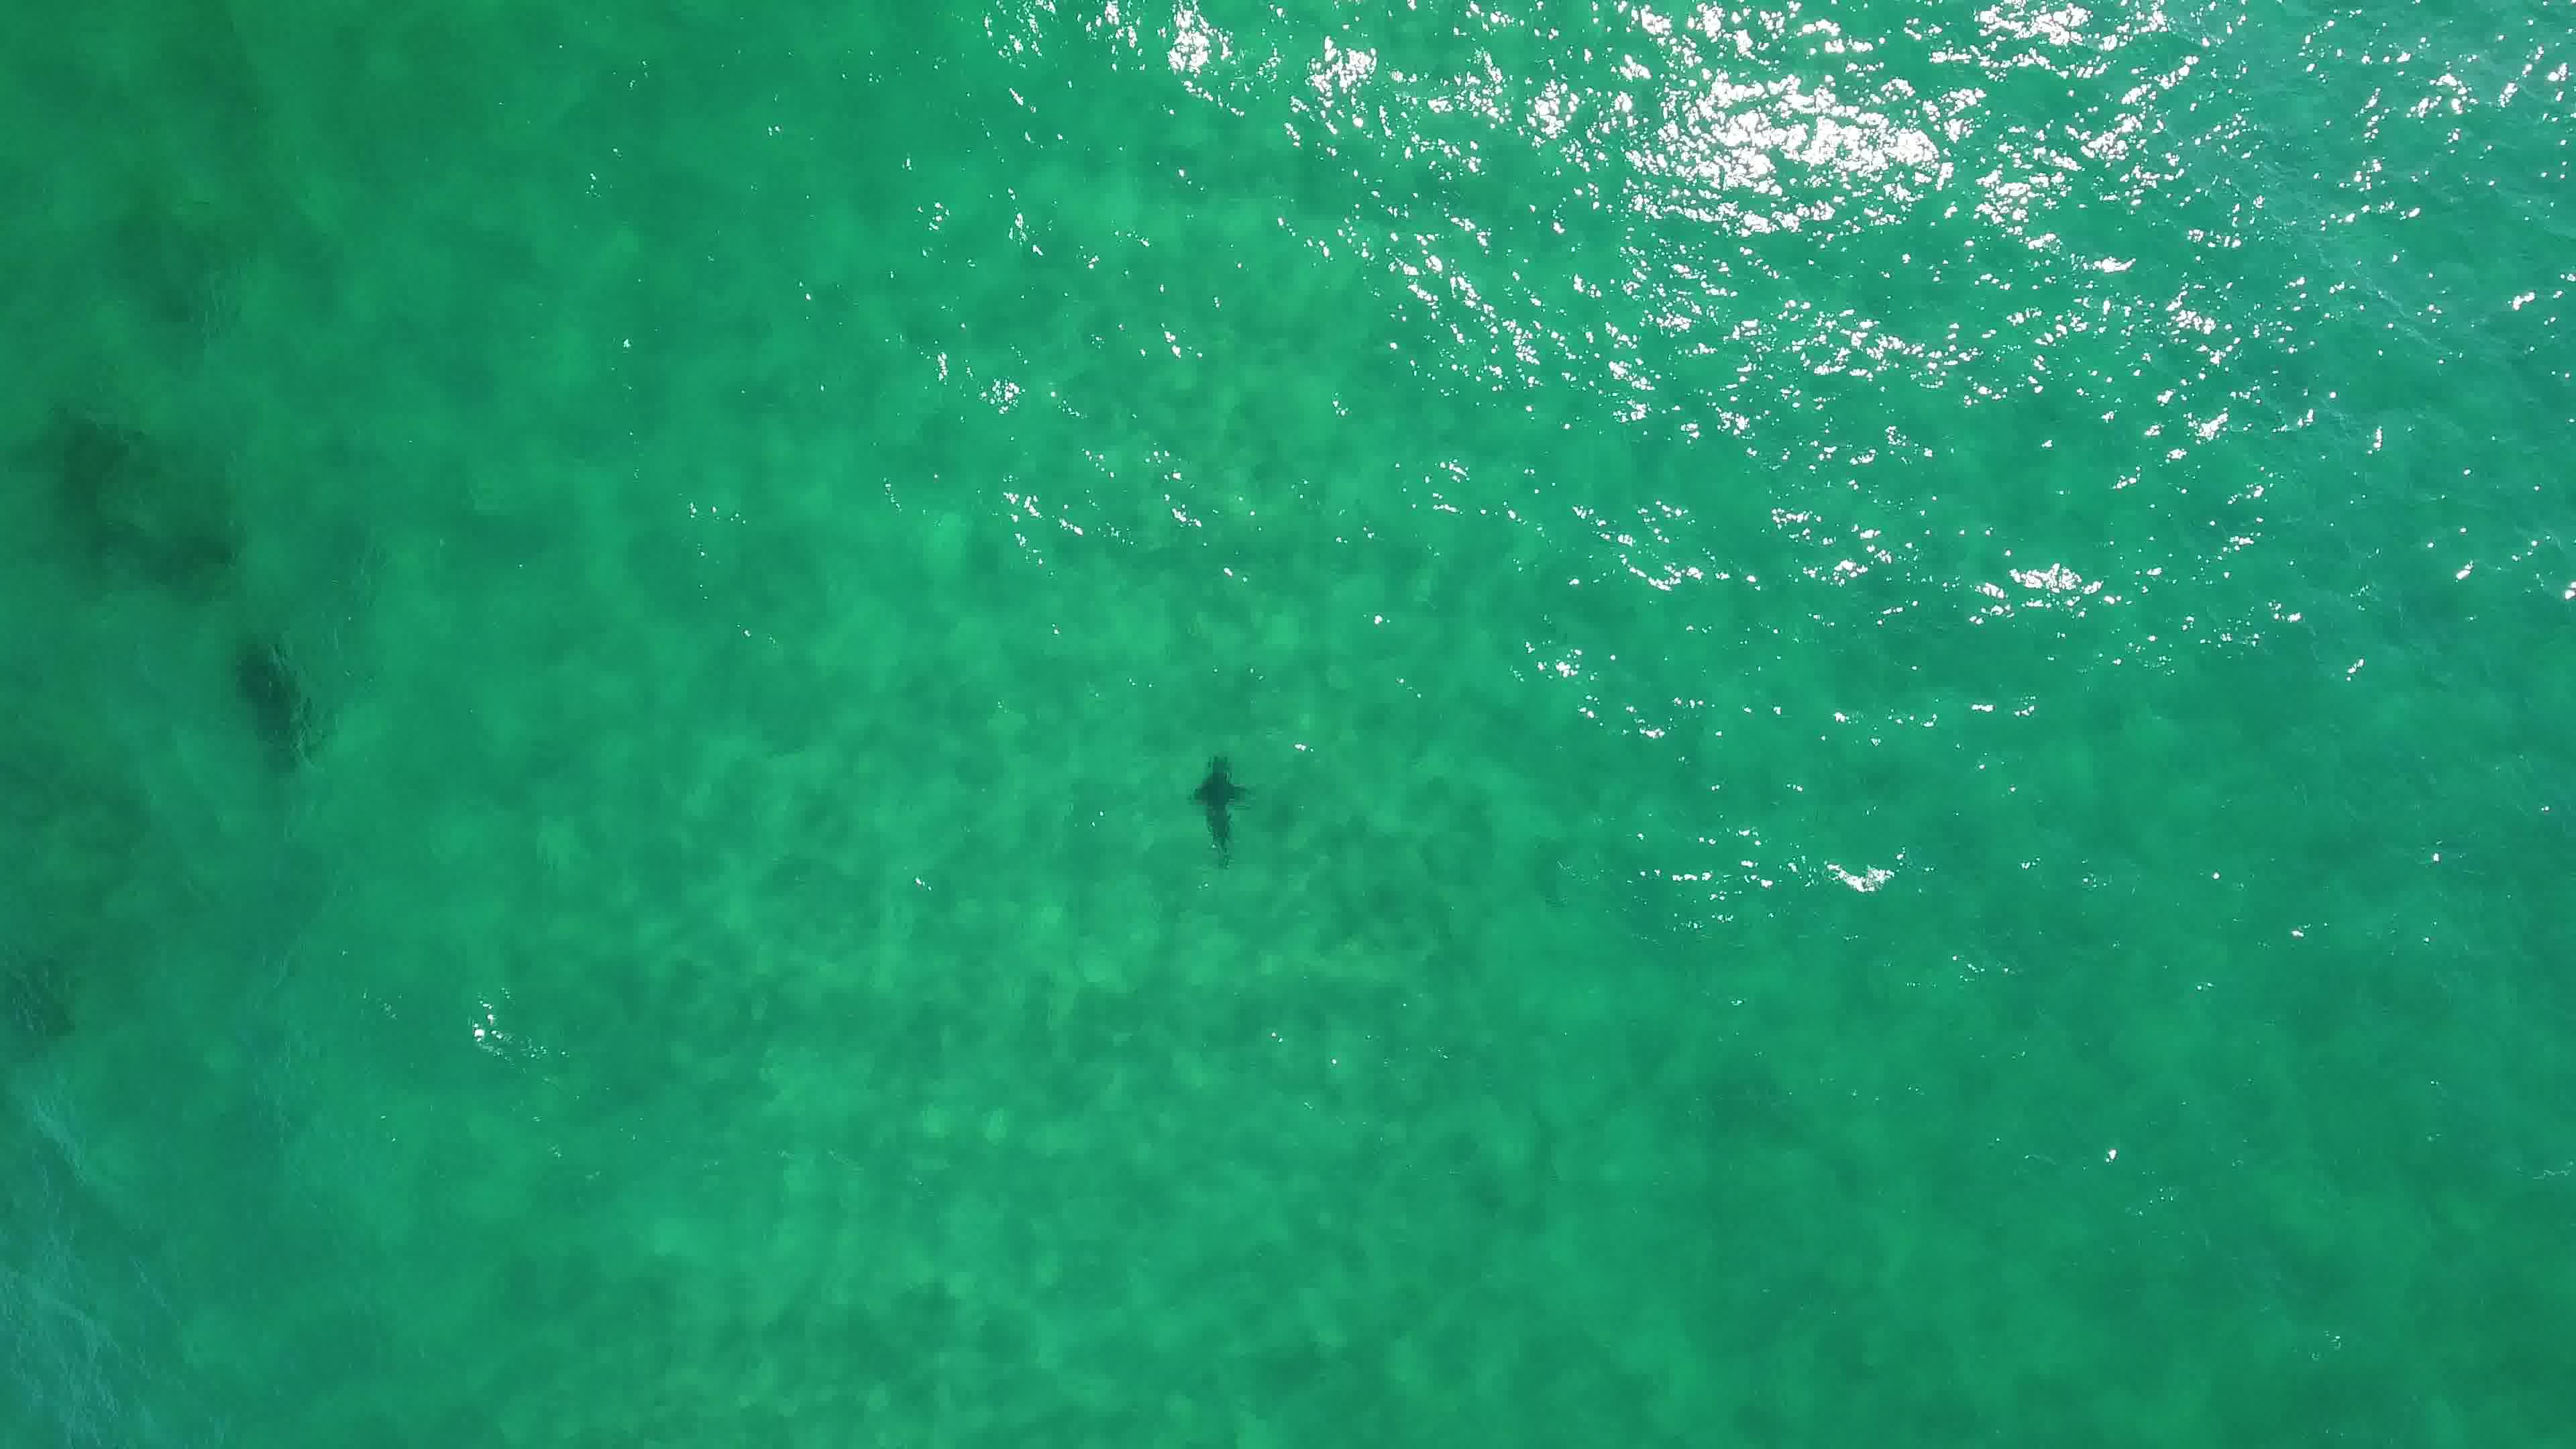shark: (1182, 752, 1263, 872)
